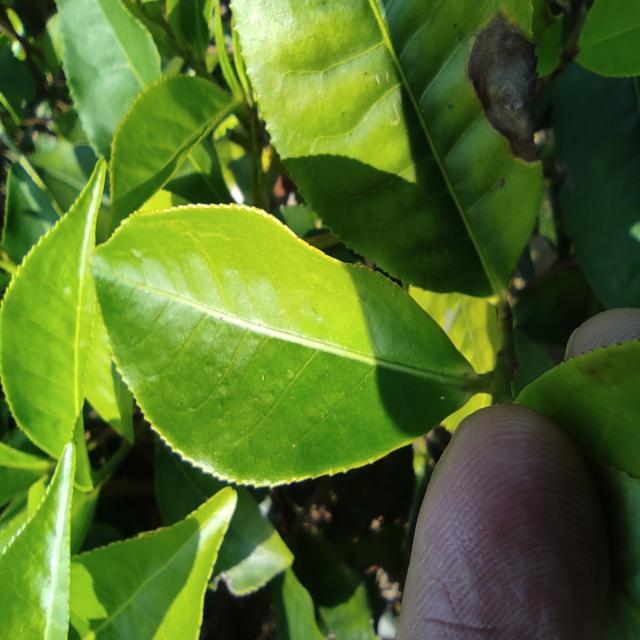Category C(4-7 days): (49, 148, 486, 506)
